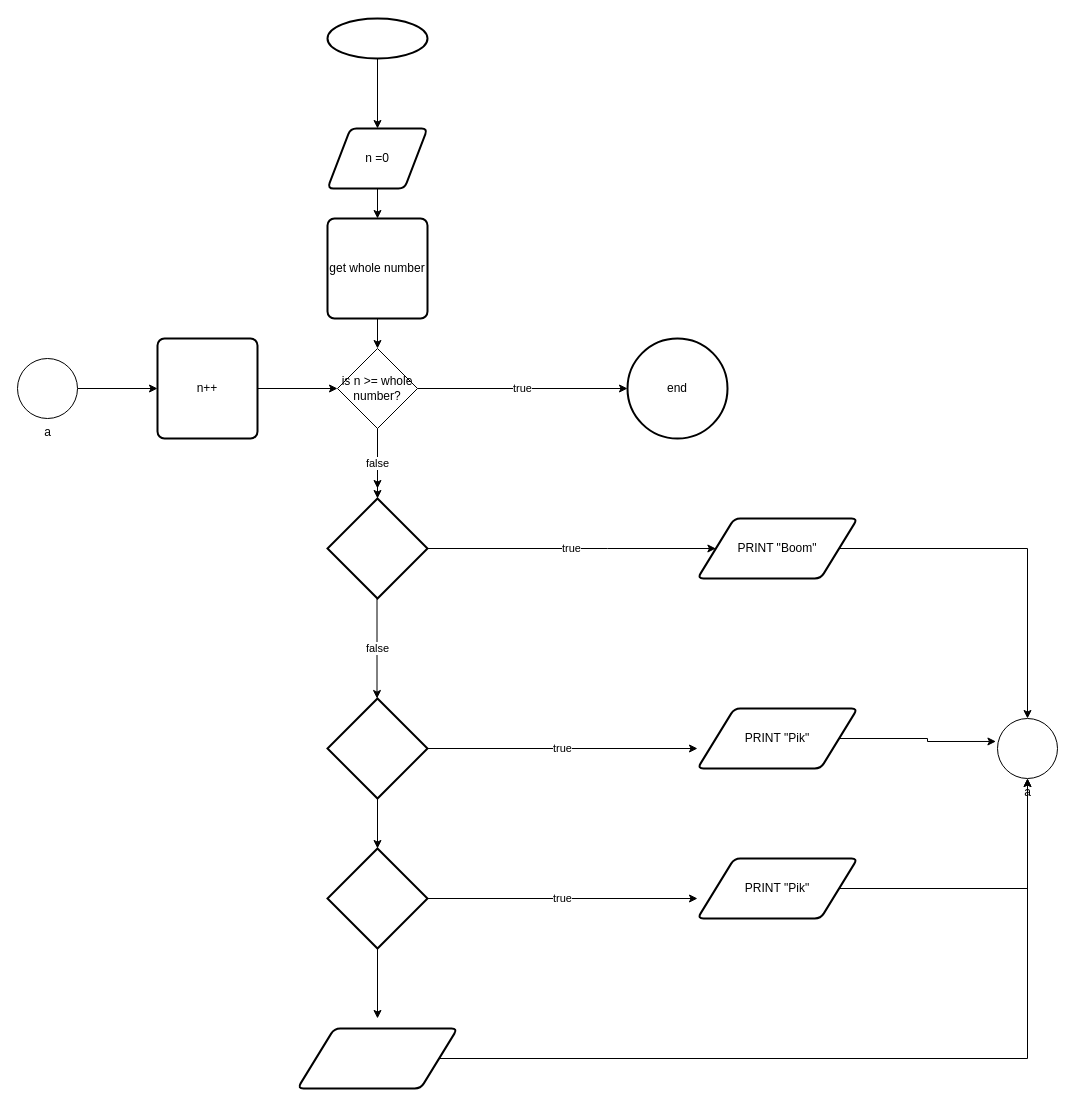
Image size: 1075x1106. Some labels were removed from this diagram. The centre of each missing label's shape, as x and y in pixels:
n multiple of 17?: pixel 377 898
n multiple of 7 and 17?: pixel 377 548
n multiple of 7?: pixel 377 748
PRINT n: pixel 377 1058
start: pixel 377 38
